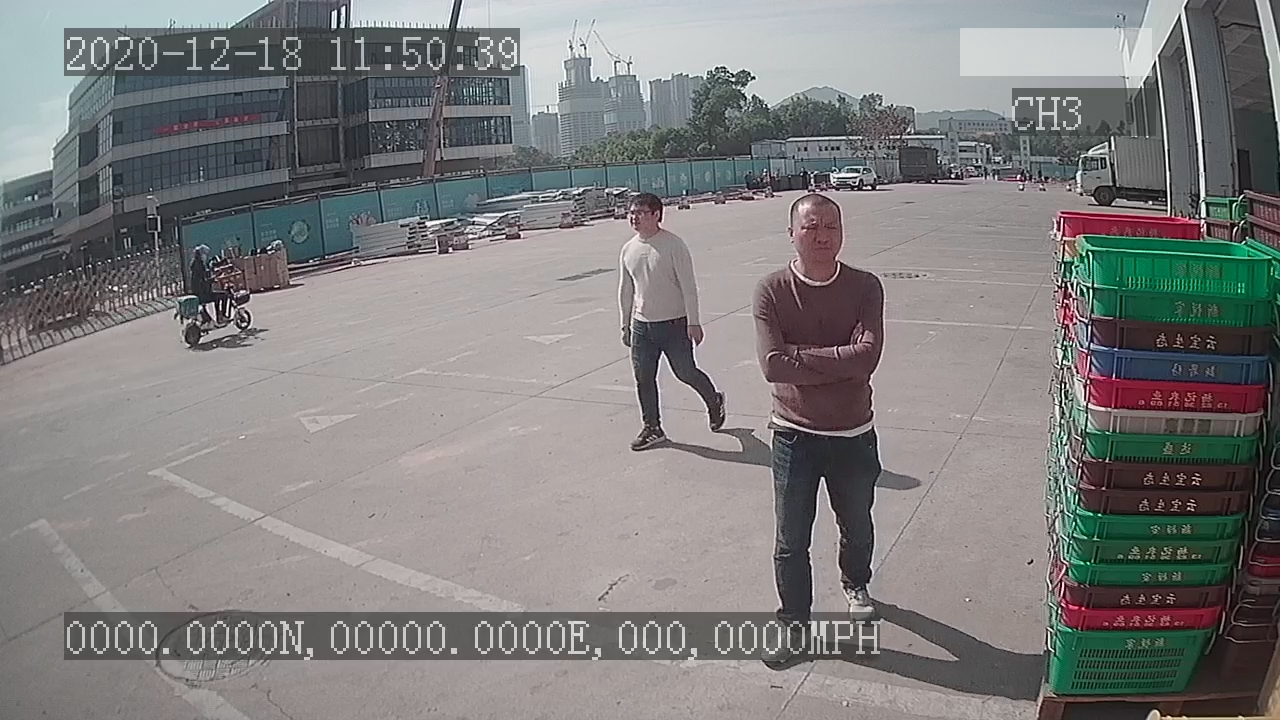person: (609, 188, 734, 451)
